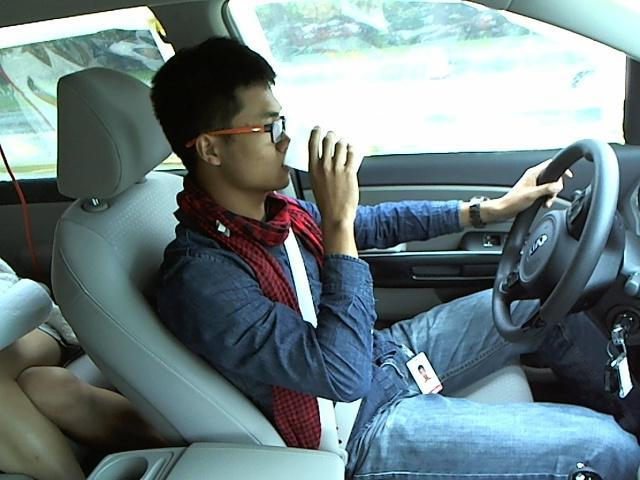Drinking: (183, 57, 367, 208)
